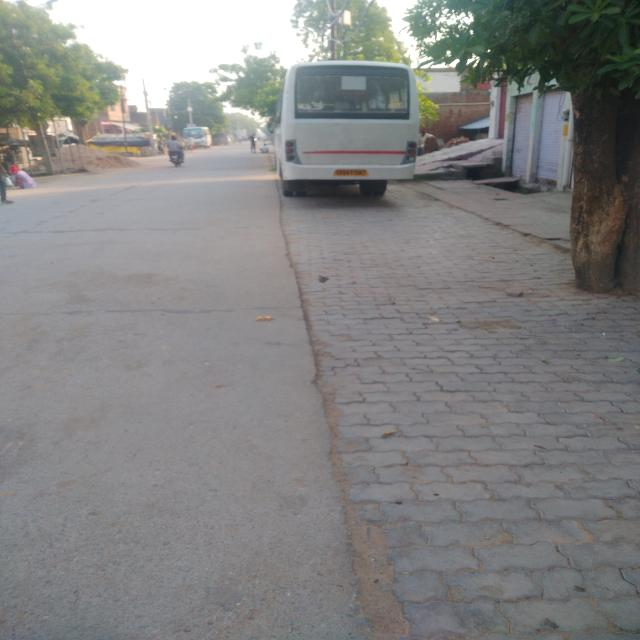Bike: (163, 145, 186, 173), (186, 138, 196, 155)
Bus: (267, 56, 437, 198), (183, 124, 210, 146)
